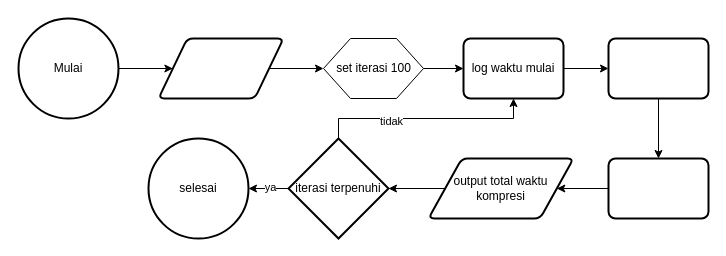
Image size: 726x256. Some labels were removed from this diagram. Here are the shapes that lost their labels. From the top down, the box of each, then its label:
(157, 37, 284, 99): input video
(607, 37, 709, 99): kompresi video dengan ffmpeg
(607, 157, 709, 219): log waktu selesai
